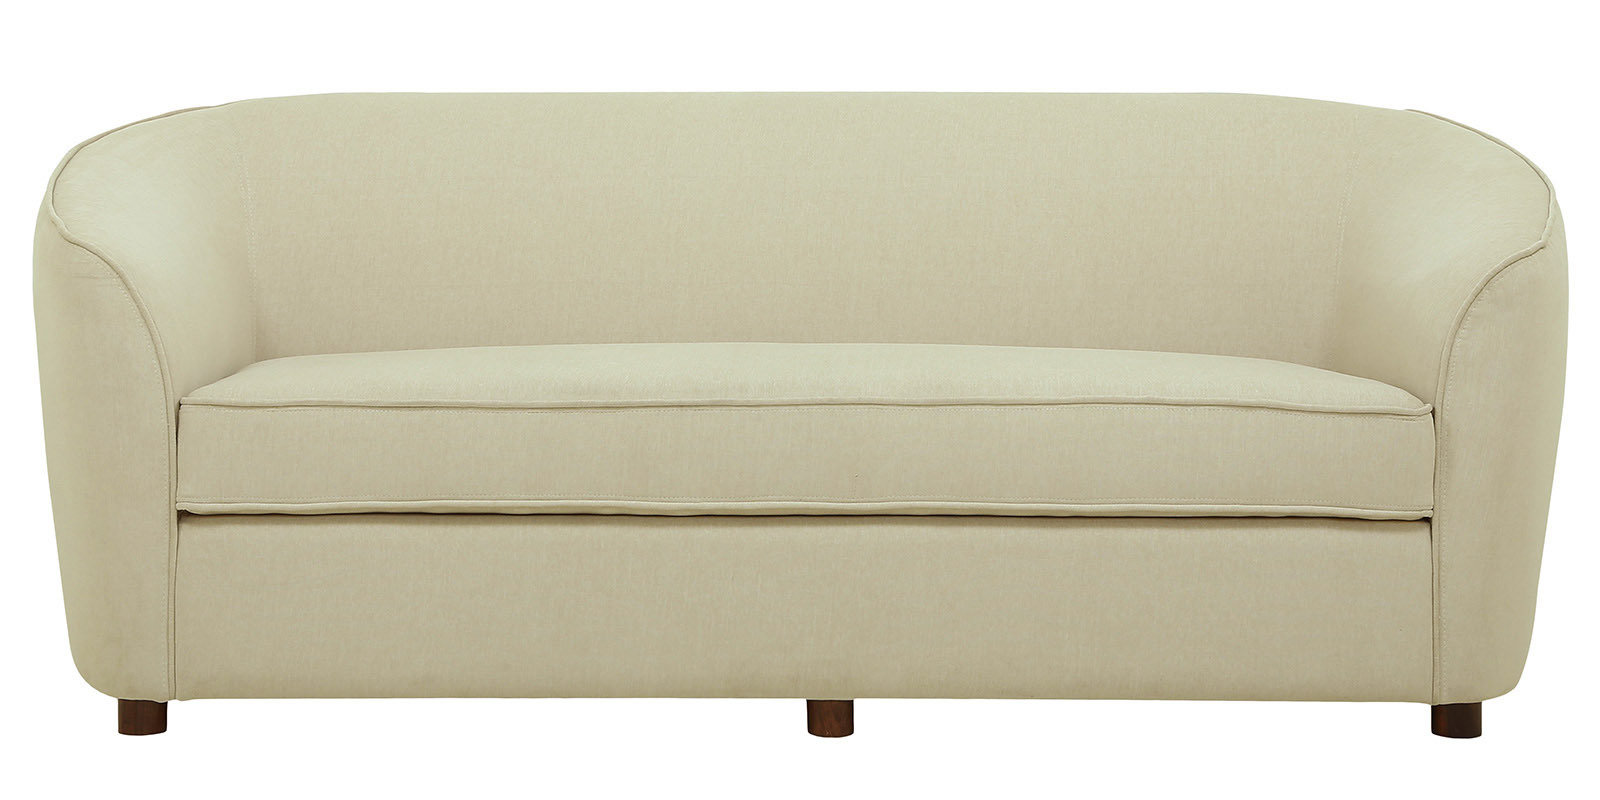Mamore Three Seater Sofa in Beige Color by CasaCraft: (34, 88, 1570, 739)
